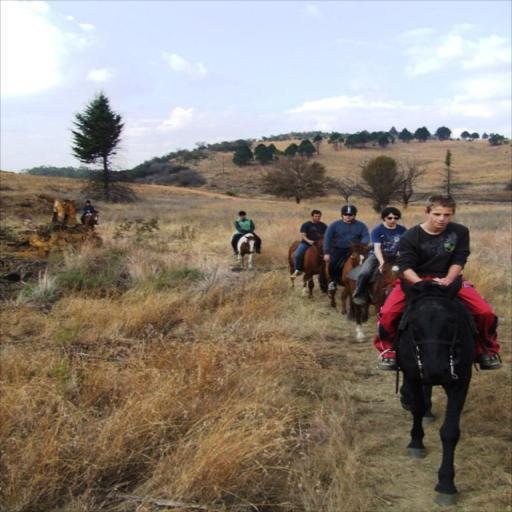horse: (394, 277, 486, 505), (350, 256, 398, 339), (325, 244, 367, 316), (284, 236, 328, 300), (234, 230, 262, 266)
